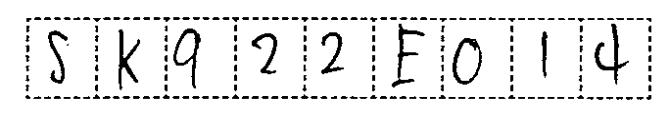0: (449, 34, 486, 87)
1: (528, 25, 563, 82)
2: (245, 28, 284, 79), (316, 29, 350, 82)
4: (592, 21, 635, 90)
9: (169, 25, 212, 92)
E: (387, 21, 429, 92)
K: (112, 25, 144, 93)
S: (40, 25, 76, 87)
